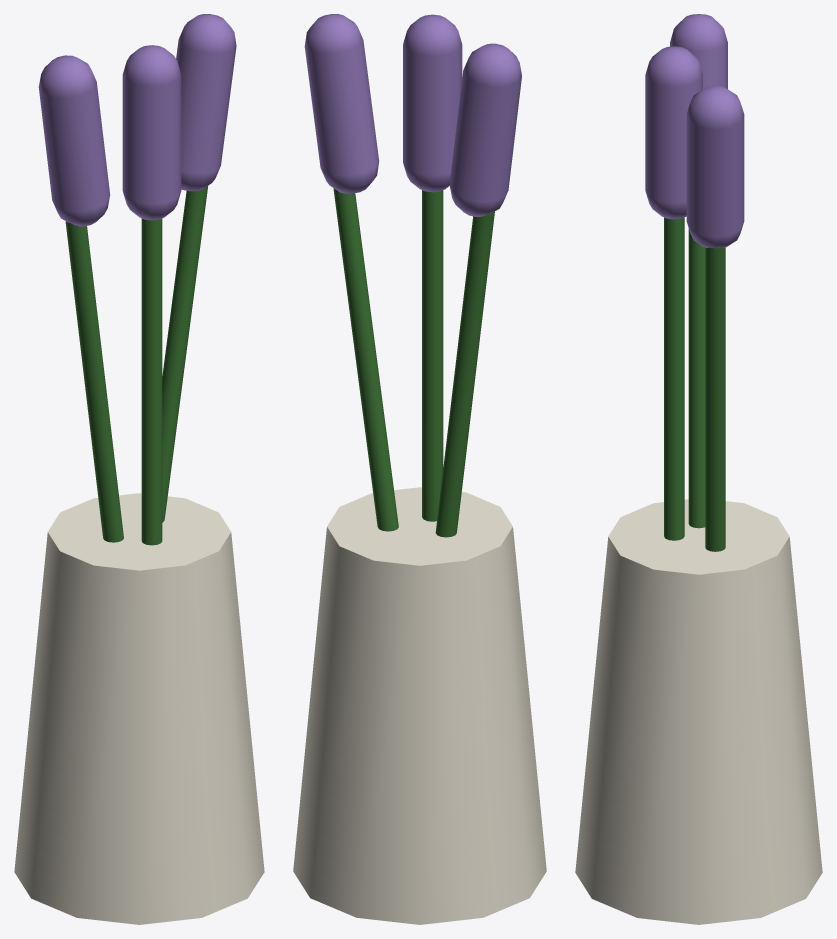
The model's file is vase_lavender.glb.
The picture shows the model from 3 angles, left to right: view 1: azimuth 30°, elevation 25°; view 2: azimuth 150°, elevation 25°; view 3: azimuth 270°, elevation 25°; orthographic projection. The views are drawn at different scales.
Visible parts, largest first — view 1: Part0, Part4, Part2, Part6, Part3, Part1, Part5; view 2: Part0, Part6, Part2, Part4, Part5, Part3, Part1; view 3: Part0, Part6, Part4, Part3, Part5, Part1, Part2.
Boxes of the visible parts, x1=… form: Part0: x1=14, y1=493, x2=264, y2=924; Part4: x1=122, y1=45, x2=181, y2=220; Part2: x1=38, y1=55, x2=110, y2=226; Part6: x1=176, y1=14, x2=236, y2=191; Part3: x1=141, y1=218, x2=162, y2=545; Part1: x1=65, y1=221, x2=123, y2=542; Part5: x1=162, y1=186, x2=207, y2=522; Part0: x1=293, y1=487, x2=546, y2=924; Part6: x1=304, y1=14, x2=379, y2=193; Part2: x1=449, y1=43, x2=521, y2=216; Part4: x1=403, y1=14, x2=462, y2=192; Part5: x1=333, y1=188, x2=398, y2=531; Part3: x1=422, y1=190, x2=443, y2=521; Part1: x1=435, y1=211, x2=494, y2=537; Part0: x1=575, y1=499, x2=822, y2=924; Part6: x1=686, y1=85, x2=744, y2=248; Part4: x1=645, y1=46, x2=702, y2=219; Part3: x1=664, y1=217, x2=684, y2=540; Part5: x1=705, y1=247, x2=725, y2=551; Part1: x1=688, y1=228, x2=705, y2=528; Part2: x1=670, y1=14, x2=727, y2=88.
Size of the model in its own units: 0.06 by 0.2205 by 0.06.
